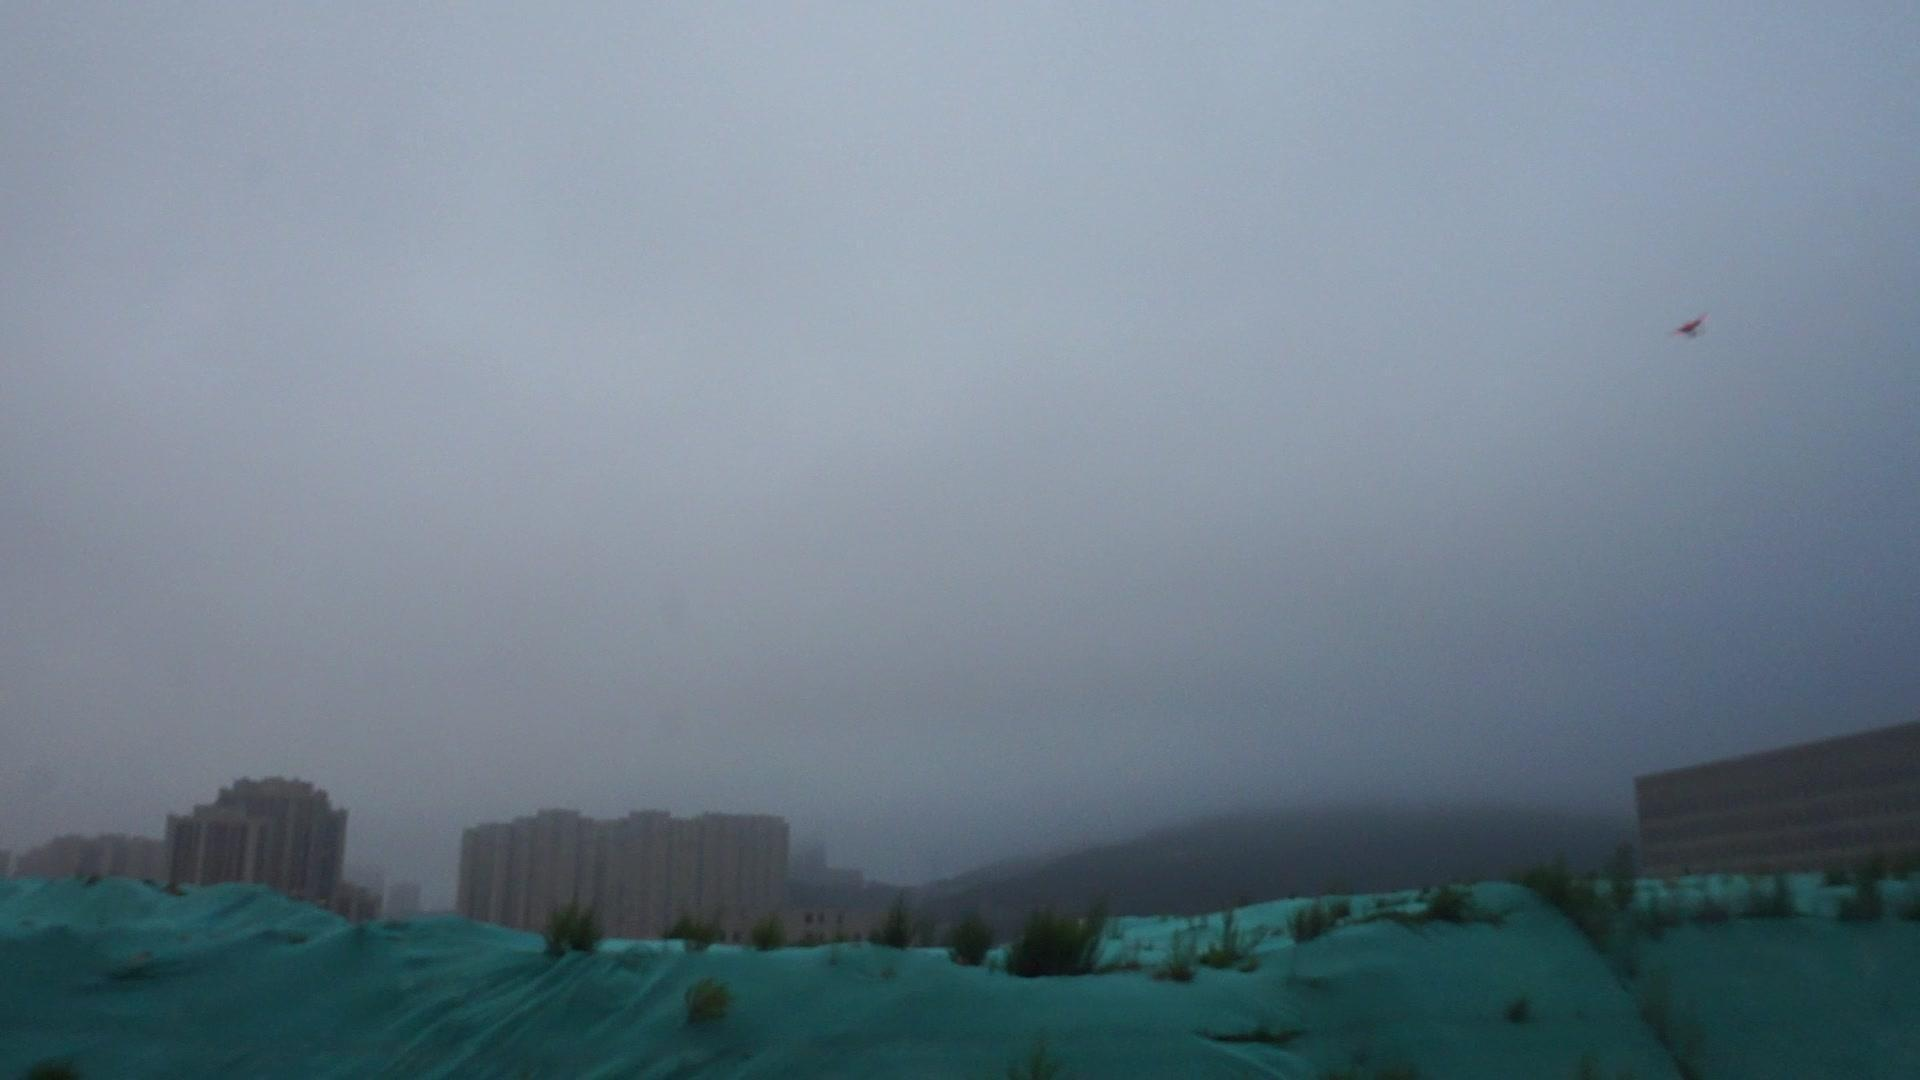UAV: (1675, 315, 1710, 339)
